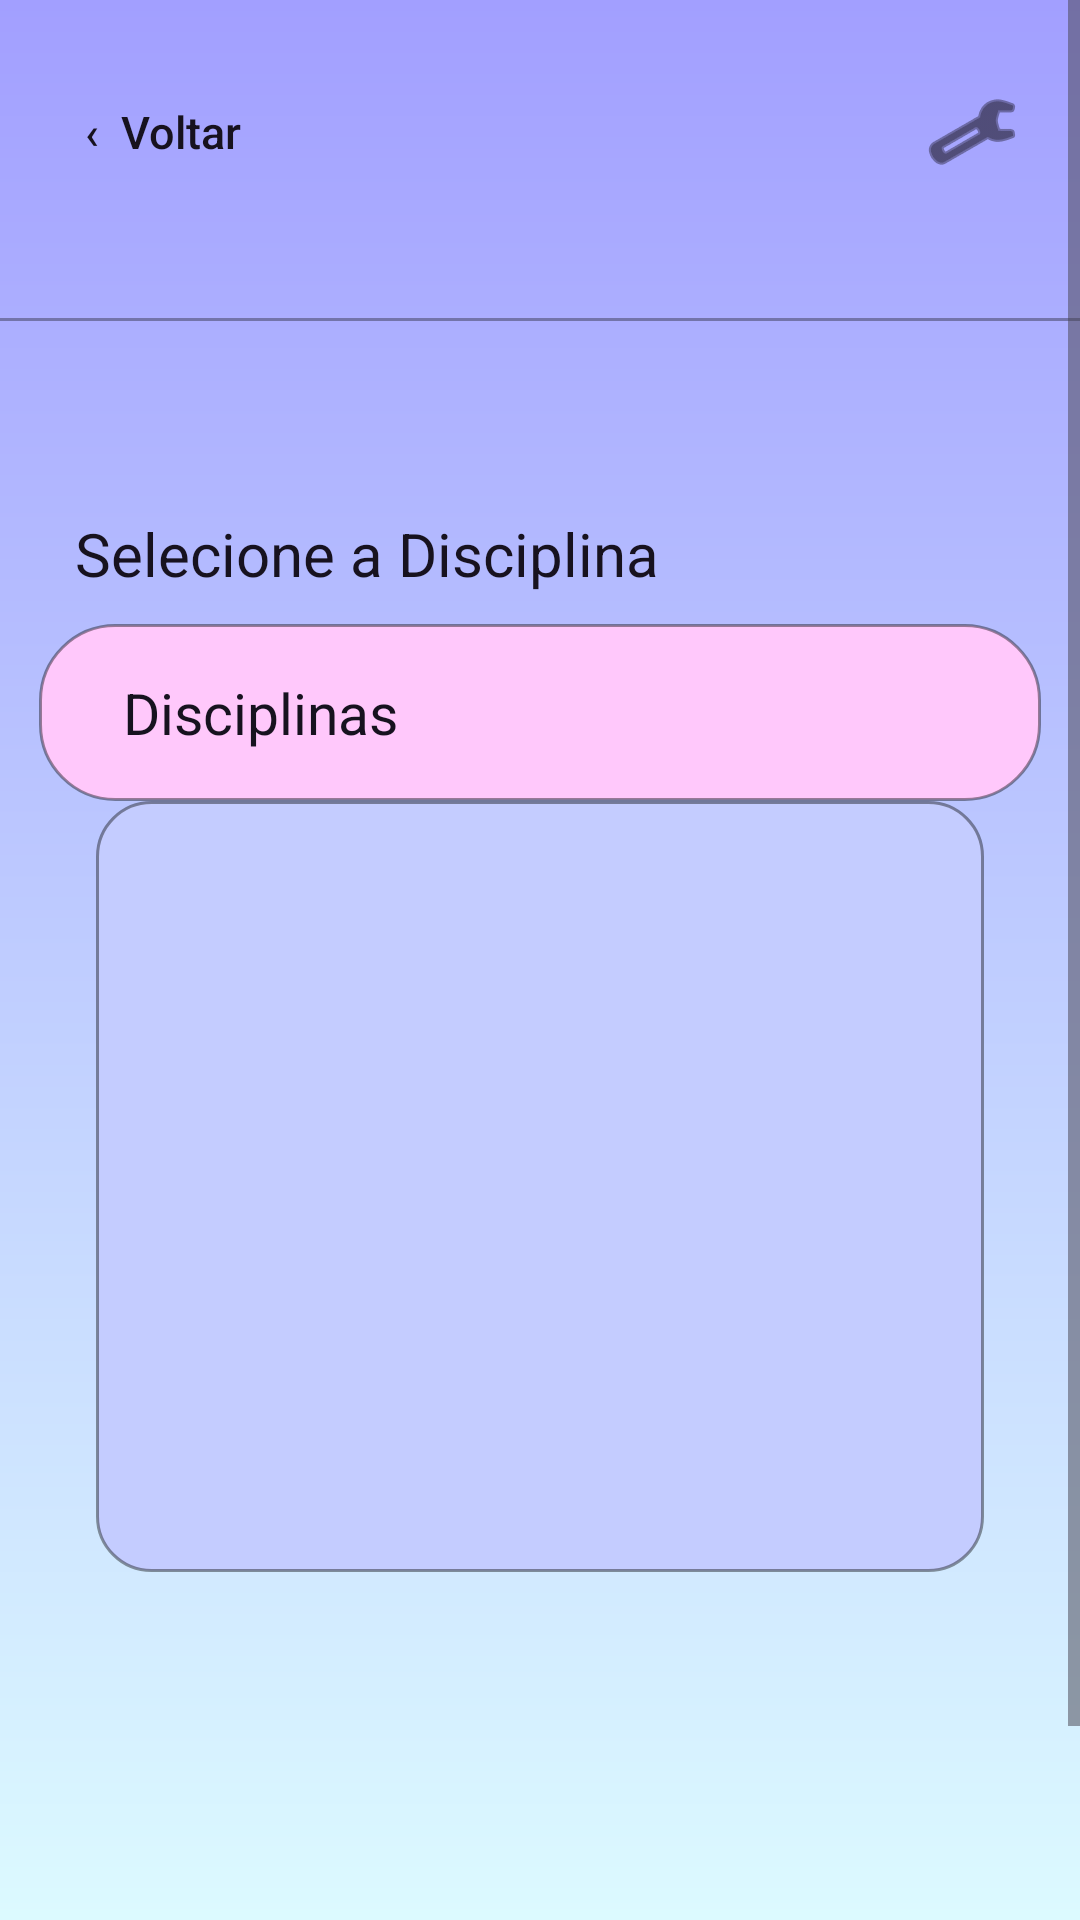

Where to tap for icons on this 1080 × 1920 app screen, as (x,y):
Configurações: (972,132)
